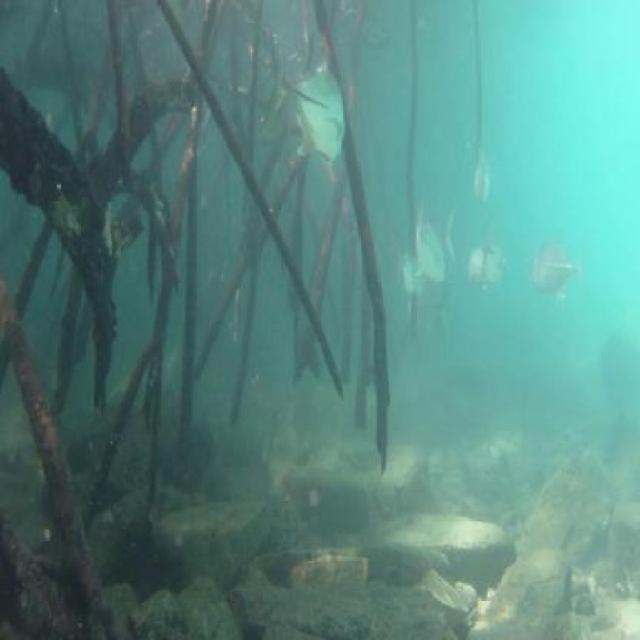Caranx_sexfasciatus_juvenile: (279, 50, 350, 168), (525, 236, 586, 304), (410, 198, 450, 292), (467, 218, 504, 300), (395, 246, 428, 319), (472, 153, 492, 210)
